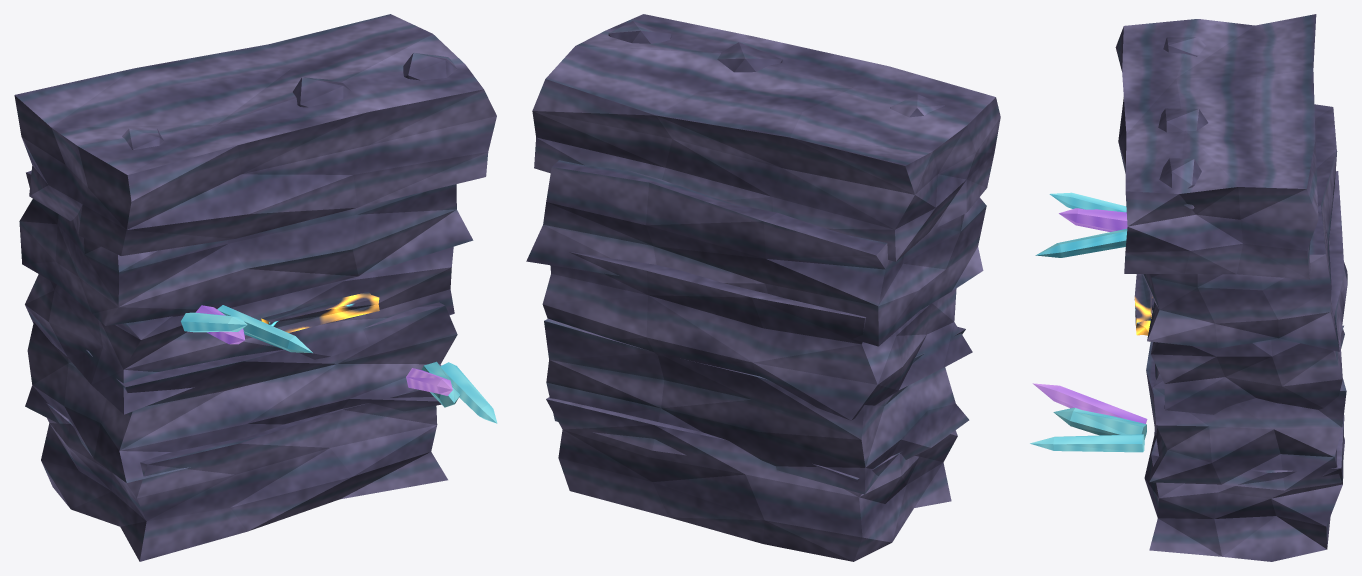
File: chasm_edge.glb
The picture shows the model from 3 angles, left to right: view 1: azimuth 30°, elevation 25°; view 2: azimuth 150°, elevation 25°; view 3: azimuth 270°, elevation 25°; orthographic projection. The views are drawn at different scales.
Visible parts, largest first — view 1: chasm_edge; view 2: chasm_edge; view 3: chasm_edge.
Boxes of the visible parts, x1,y1,x2,y2 form: chasm_edge: (14, 14, 497, 561); chasm_edge: (526, 14, 1000, 561); chasm_edge: (1030, 14, 1347, 561).
Bounding box in the file's own units: 3.22 × 3.39 × 2.47.
Materials: 5 (5 with a texture image).
